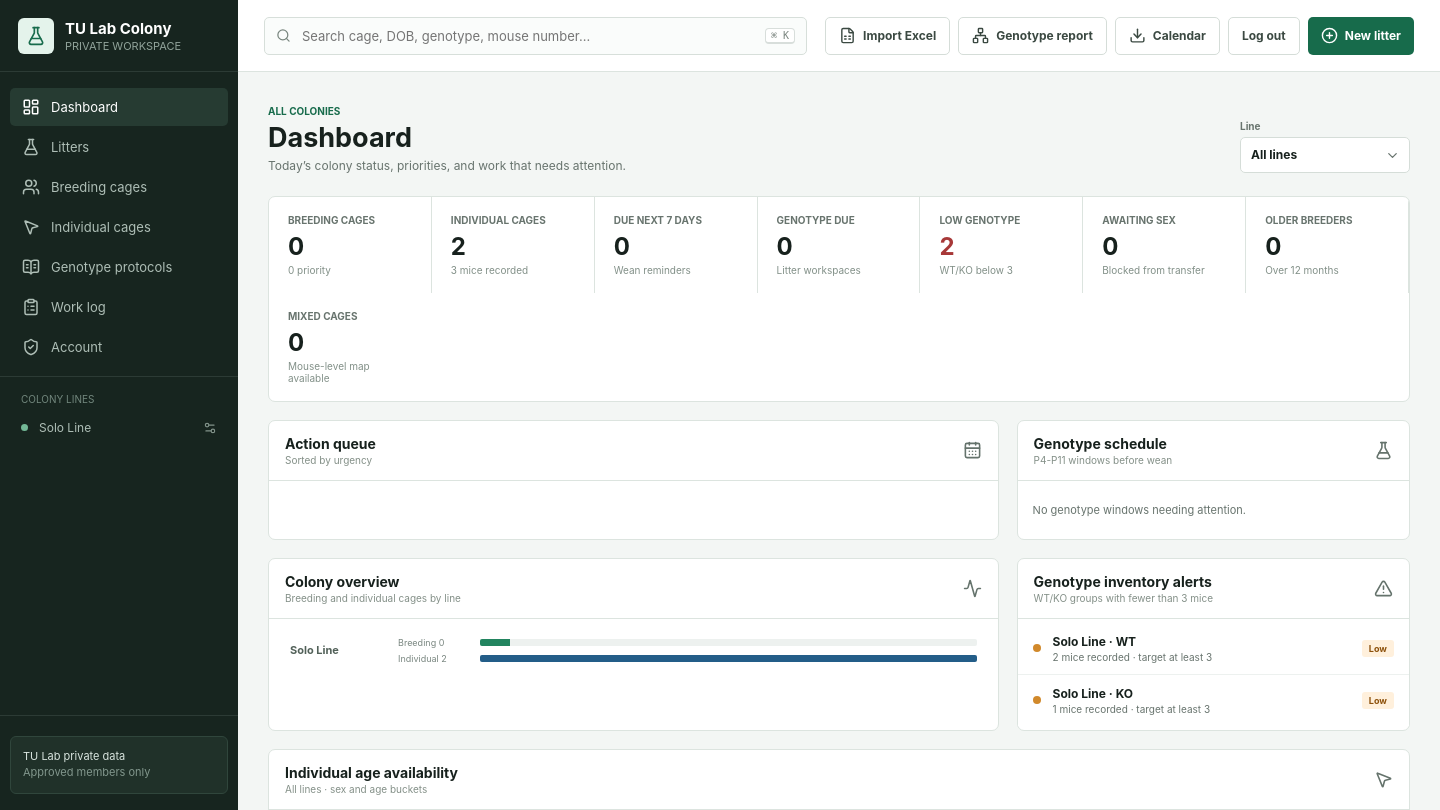
Test case: colony line filtering › warns when a line has fewer than three mice for a core genotype
Expected: the text "Solo Line · WT" is shown, [1053, 634, 1136, 649]
Expected: the text "Solo Line · KO" is shown, [1053, 686, 1133, 701]
Click the button "Solo Line · WT": (1213, 649) [1018, 623, 1409, 675]
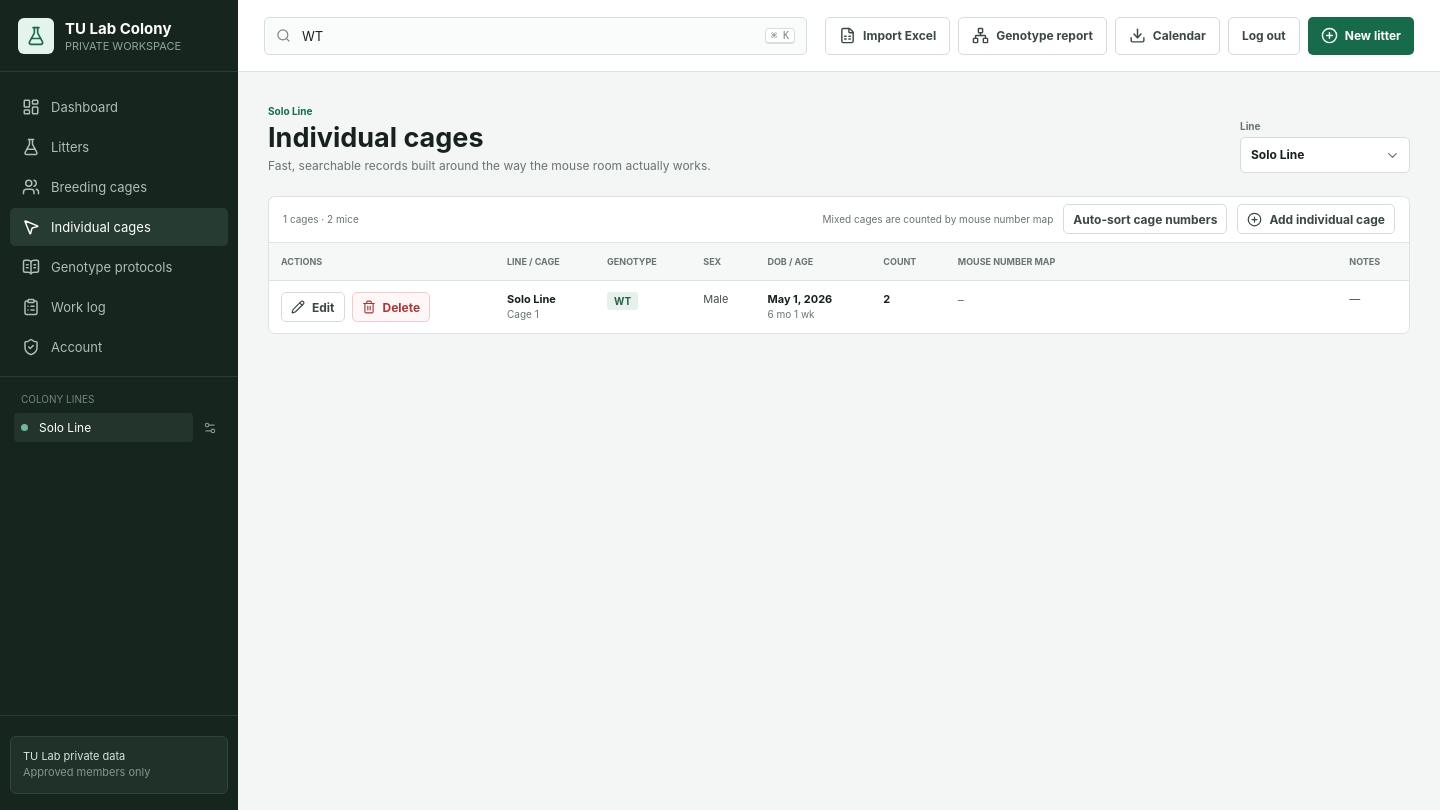
Result: the heading "Individual cages" is shown at [268, 121, 484, 154]
Result: the field showing "WT" is shown at [300, 26, 756, 44]
